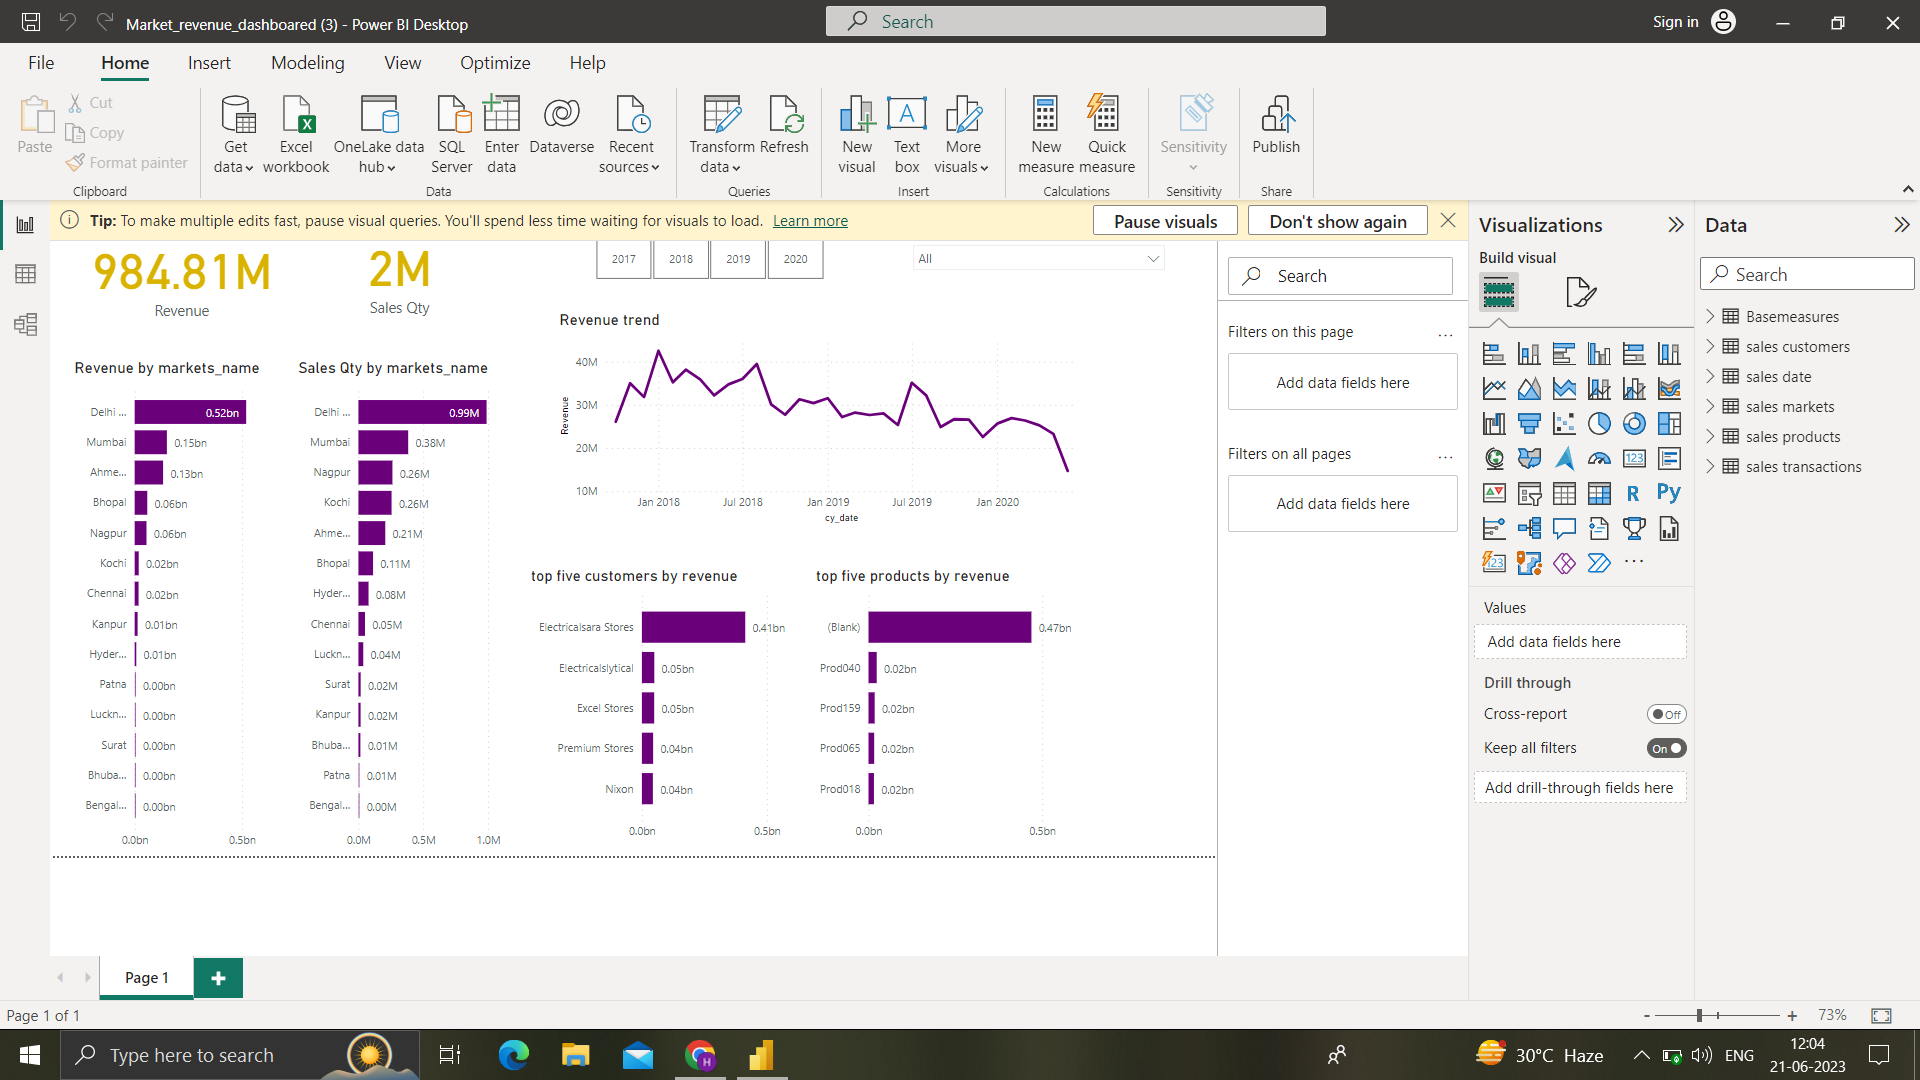

What the dashboard file says about the page in this screenshot:
{"tool":"powerbi","page":{"name":"Page 1","canvas":[1280,720],"ordinal":0},"visuals":[{"type":"card","fields":{"Values":["Basemeasures.Revenue"]},"box":[35.7,19.2,218.2,127.6],"z":0},{"type":"card","fields":{"Values":["Basemeasures.Sales Qty"]},"box":[267.6,20.6,231.9,116.6],"z":1000},{"type":"barChart","fields":{"Y":["Basemeasures.Revenue"],"Category":["sales markets.markets_name"]},"box":[22,174.3,231.9,546.1],"z":2000},{"type":"barChart","fields":{"Y":["Basemeasures.Sales Qty"],"Category":["sales markets.markets_name"]},"box":[267.6,174.3,231.9,546.1],"z":3000},{"type":"slicer","fields":{"Values":["sales date.year"]},"box":[573.6,19.2,299.1,74.1],"z":4000},{"type":"slicer","fields":{"Values":["sales date.cy_date"]},"box":[935.9,20.6,296.4,72.7],"z":5000},{"type":"barChart","title":"top five customers by revenue","fields":{"Y":["Basemeasures.Revenue"],"Category":["sales customers.custmer_name"]},"box":[522.8,402.1,311.5,308.7],"z":6000},{"type":"barChart","title":"top five products by revenue","fields":{"Y":["Basemeasures.Revenue"],"Category":["sales products.product_code"]},"box":[834.3,402.1,311.5,308.7],"z":7000},{"type":"lineChart","title":"Revenue trend","fields":{"Y":["Basemeasures.Revenue"],"Category":["sales date.cy_date"]},"box":[554.4,120.8,591.4,238.8],"z":8000}]}

Visuals, with their boxes on the page's 1280x720 design canvas (x1, y1, x2, y2). These are canvas units, not pixel positions in the 1920x1080 screenshot, which may show the page scaled, cropped or inside an application window:
card - Basemeasures.Revenue: select_region(36, 19, 254, 147)
card - Basemeasures.Sales Qty: select_region(268, 21, 500, 137)
barChart - Basemeasures.Revenue x sales markets.markets_name: select_region(22, 174, 254, 720)
barChart - Basemeasures.Sales Qty x sales markets.markets_name: select_region(268, 174, 500, 720)
slicer - sales date.year: select_region(574, 19, 873, 93)
slicer - sales date.cy_date: select_region(936, 21, 1232, 93)
"top five customers by revenue" barChart: select_region(523, 402, 834, 711)
"top five products by revenue" barChart: select_region(834, 402, 1146, 711)
"Revenue trend" lineChart: select_region(554, 121, 1146, 360)
